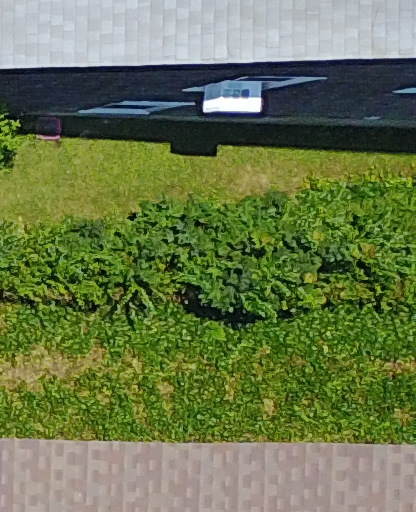container: (33, 112, 65, 143)
